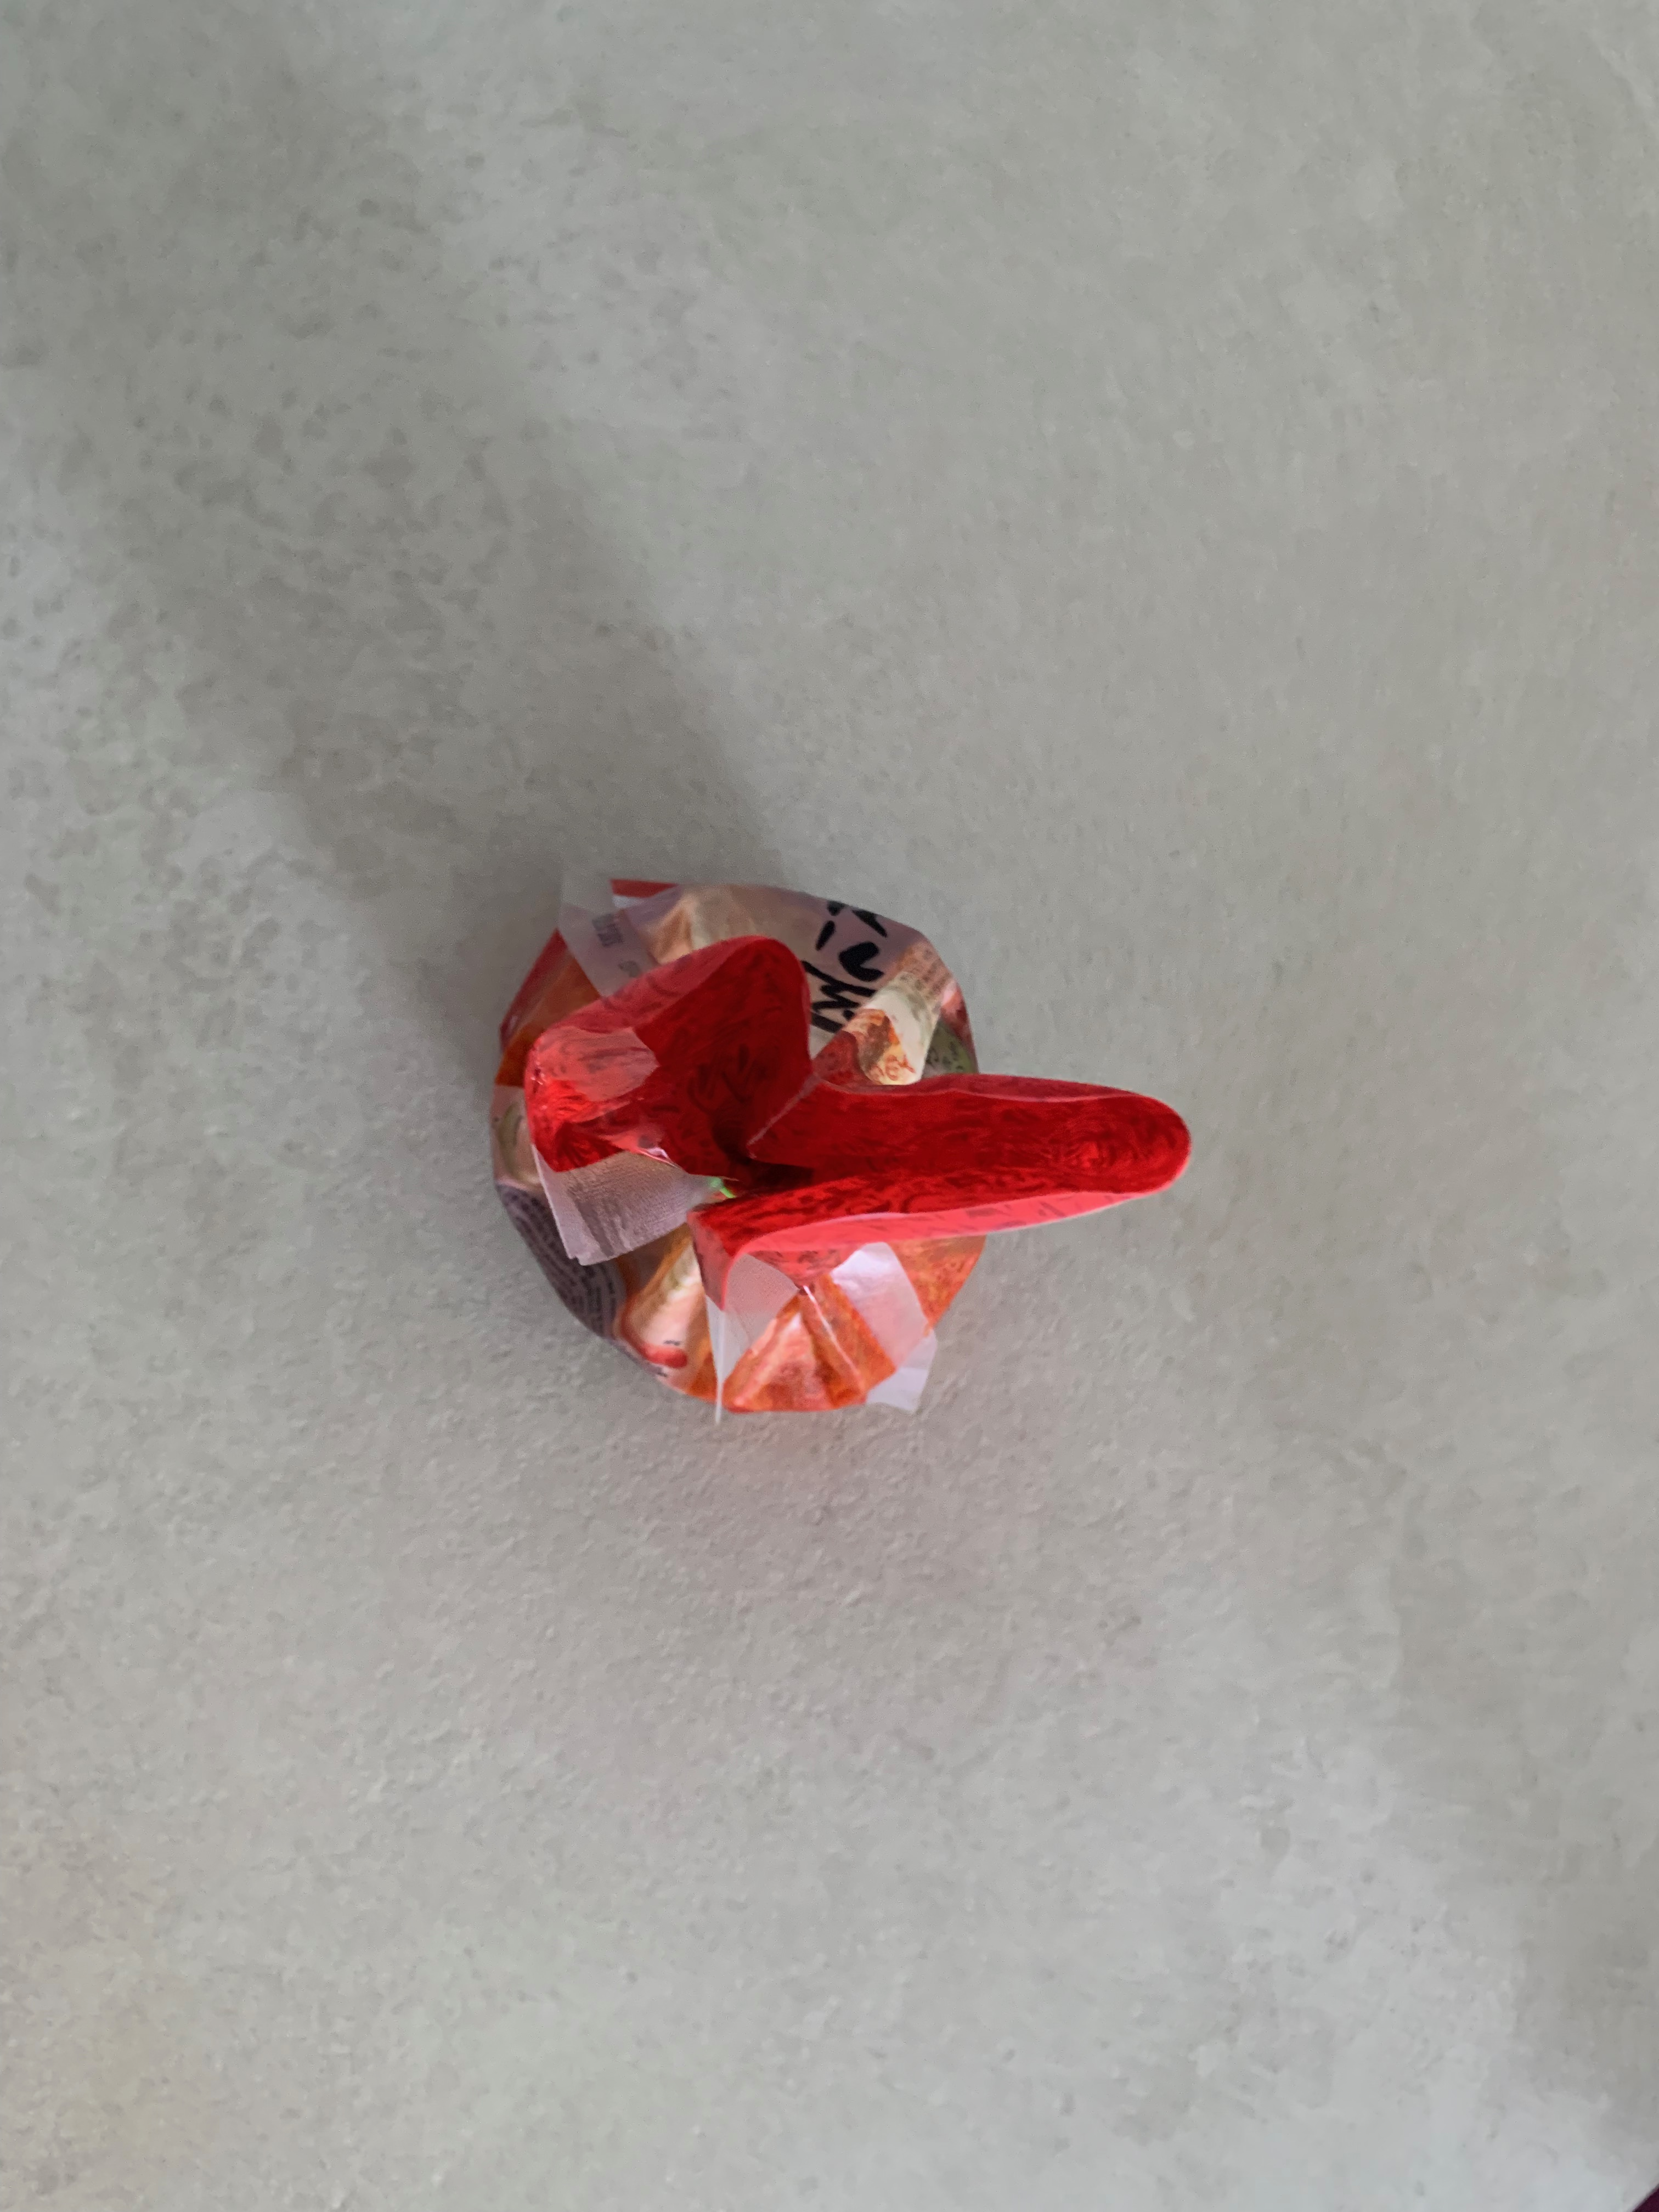kimchi: (495, 878, 1187, 1420)
